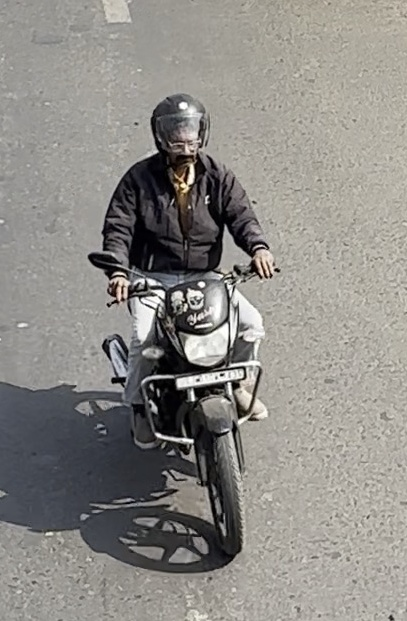BikeWithRider: (85, 90, 284, 556)
Helmet: (148, 92, 211, 172)
